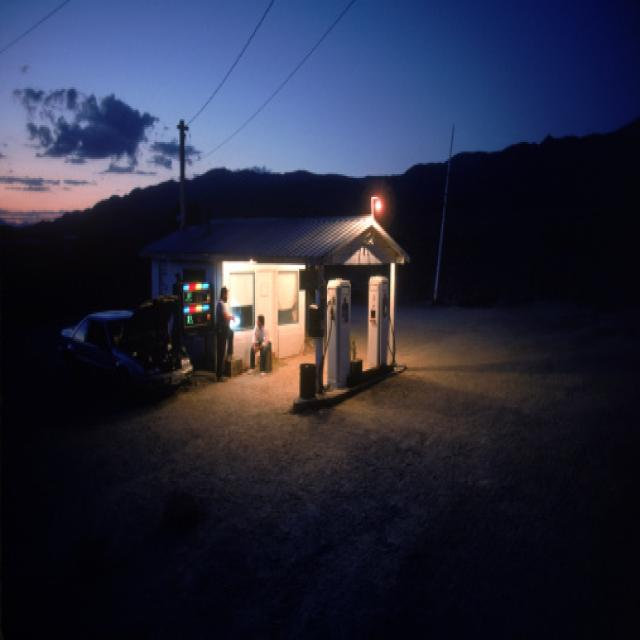Car: (57, 290, 193, 392), (120, 490, 173, 502)
